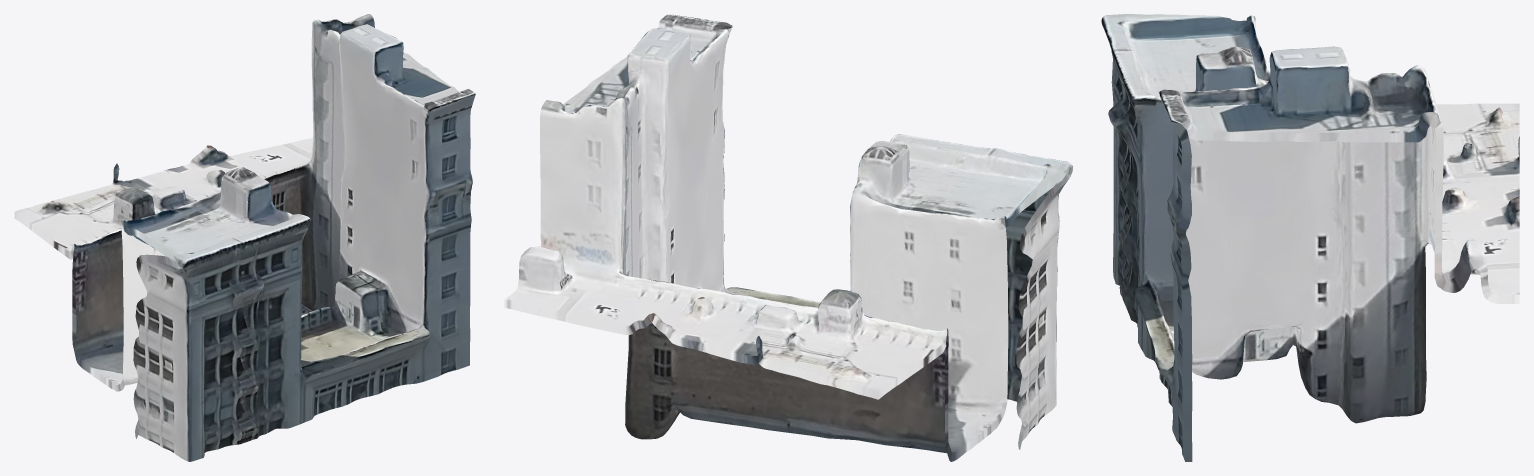
Rendered from z20-167755-405241-h1-yup-uvflip-v3-world.glb.
3 views of the same model, side by side, from view 1: azimuth 30°, elevation 25°; view 2: azimuth 150°, elevation 25°; view 3: azimuth 270°, elevation 25° (orthographic). The views are drawn at different scales.
Bounding box in the file's own units: 30.2 × 28 × 27.56.
1 material, 1 textured.
